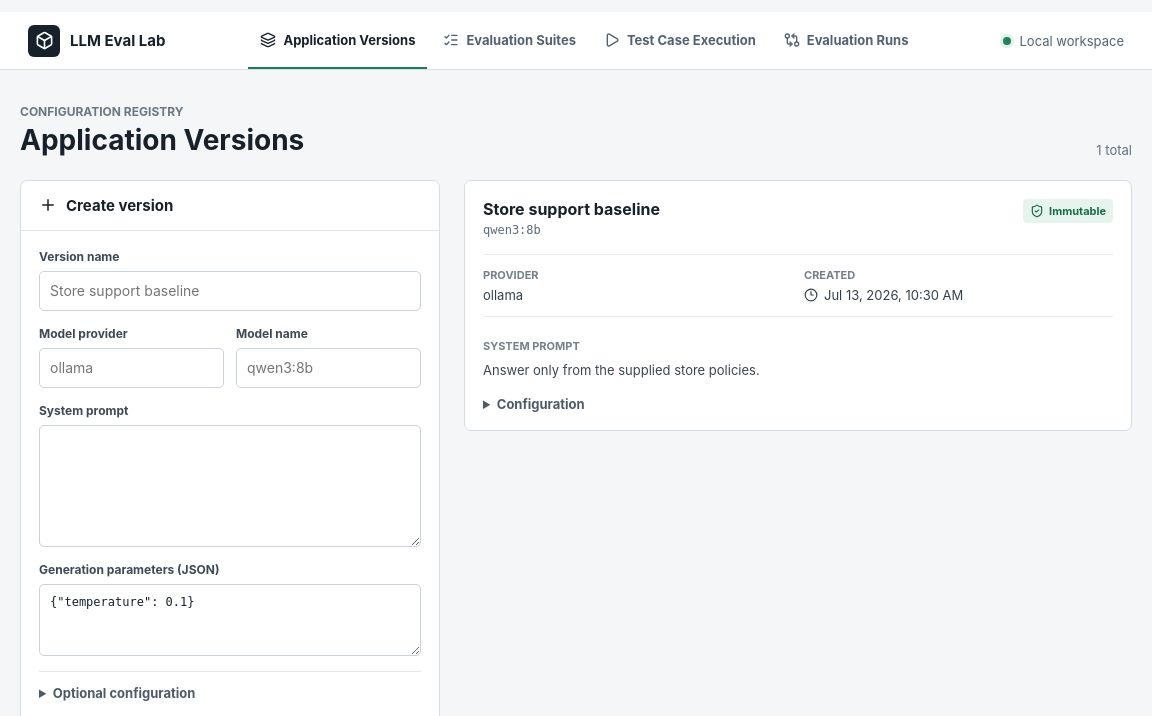
Test: Application Versions › shows an actionable provider failure as readable alert text
The image size is (1152, 716).
Expected: the heading "Store support baseline" is shown, [483, 199, 660, 220]
Click the button "Test Case Execution" at (680, 40), box [592, 12, 768, 69]
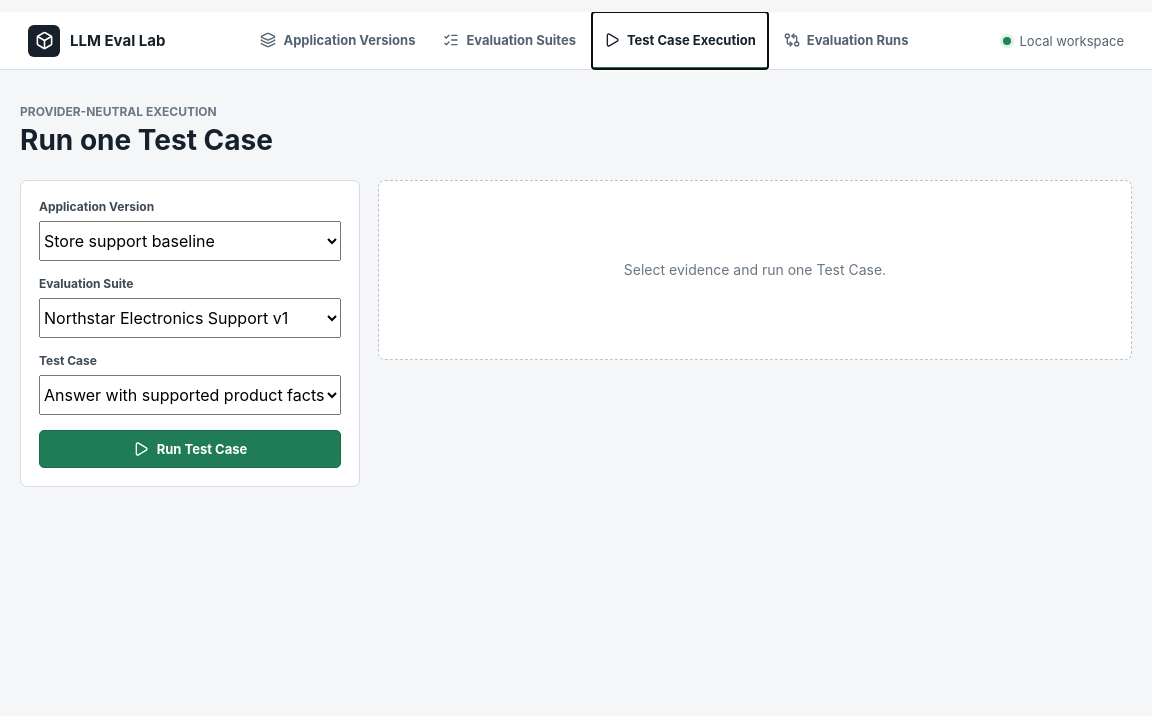
Result: the dropdown labelled "Test Case" is shown at [39, 375, 341, 415]
Click the button "Run Test Case" at (190, 449), box [39, 430, 341, 468]
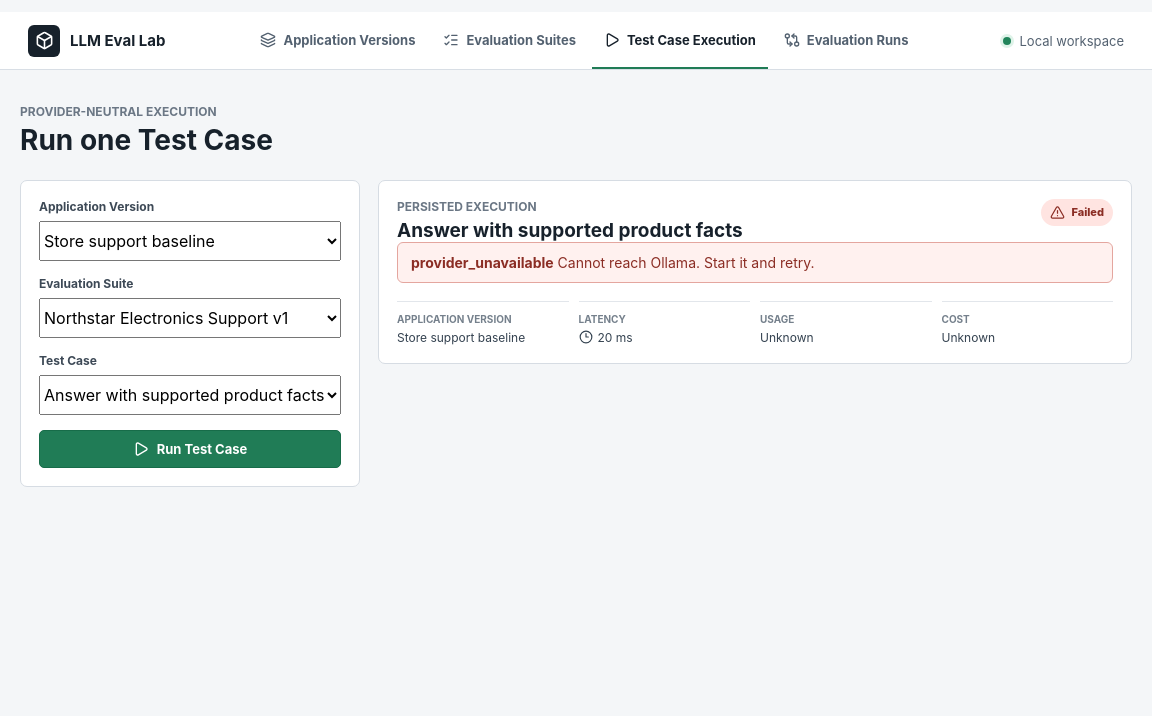
Result: the message reads "provider_unavailable Cannot reach Ollama. Start it and retry." at [397, 242, 1113, 283]
